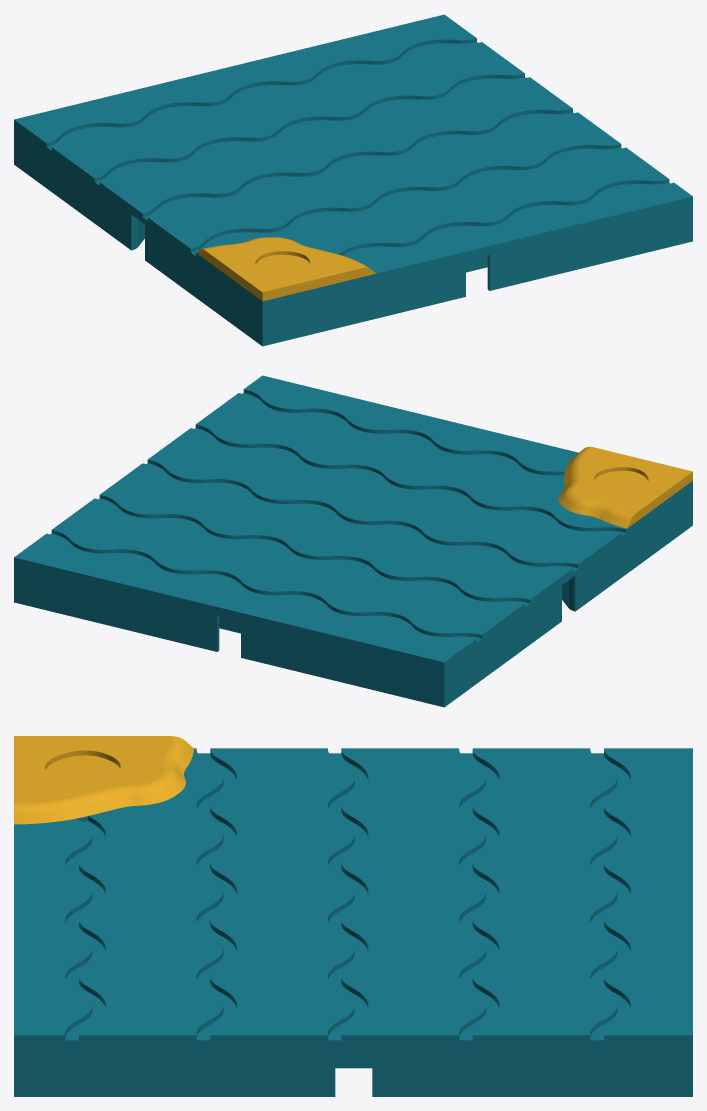
File: 5x5 Sand On Water Outer Corner.obj
3 views of the same model, one above another, from view 1: azimuth 30°, elevation 25°; view 2: azimuth 150°, elevation 25°; view 3: azimuth 270°, elevation 25° (orthographic). The views are drawn at different scales.
Parts seen in each view (by area): view 1: Körper1:1, Körper1; view 2: Körper1:1, Körper1; view 3: Körper1:1, Körper1.
Part boxes in pixels (bbox=[...]): Körper1:1: bbox=[14, 14, 692, 346]; Körper1: bbox=[197, 237, 375, 301]; Körper1:1: bbox=[14, 375, 692, 707]; Körper1: bbox=[558, 446, 692, 528]; Körper1:1: bbox=[14, 748, 692, 1096]; Körper1: bbox=[14, 736, 193, 824].
Size of the model in its own units: 50 by 6 by 50.
